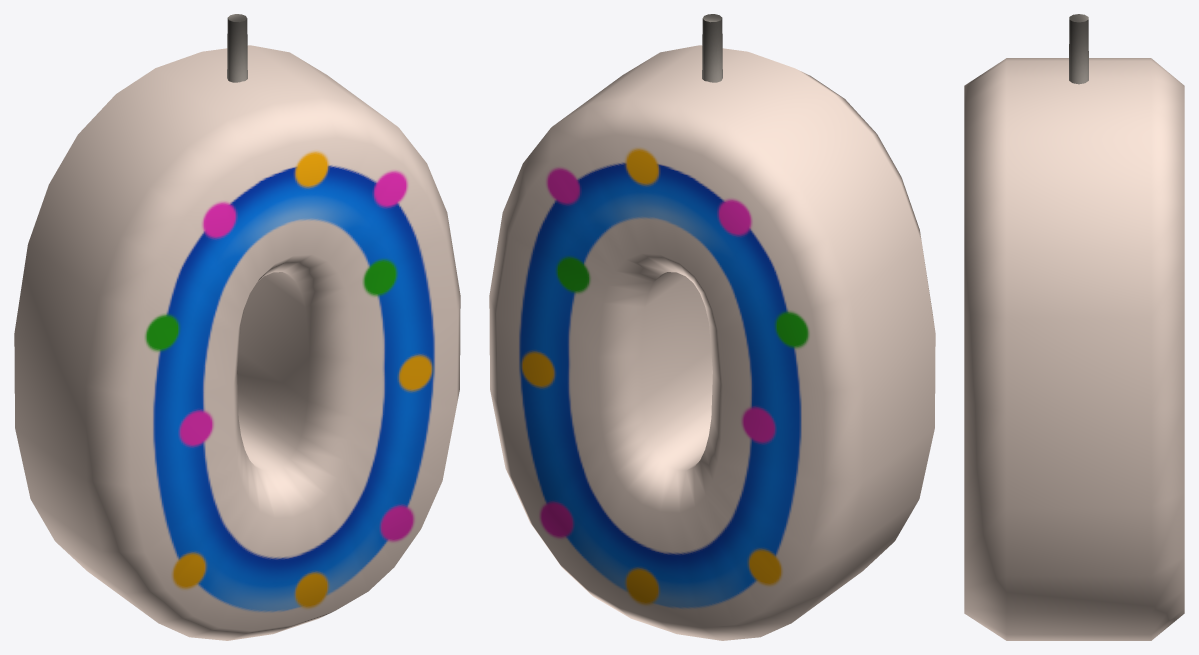
The model's file is Candle_0.fbx.
3 renders of one model, left to right at view 1: azimuth 30°, elevation 25°; view 2: azimuth 150°, elevation 25°; view 3: azimuth 270°, elevation 25°, orthographic.
Parts seen in each view (by area): view 1: Candle_0; view 2: Candle_0; view 3: Candle_0.
Part boxes in pixels (x1=…): Candle_0: x1=14, y1=14, x2=460, y2=640; Candle_0: x1=489, y1=14, x2=935, y2=640; Candle_0: x1=964, y1=14, x2=1184, y2=640.
Bounding box in the file's own units: 20.3 × 30.52 × 10.17.
